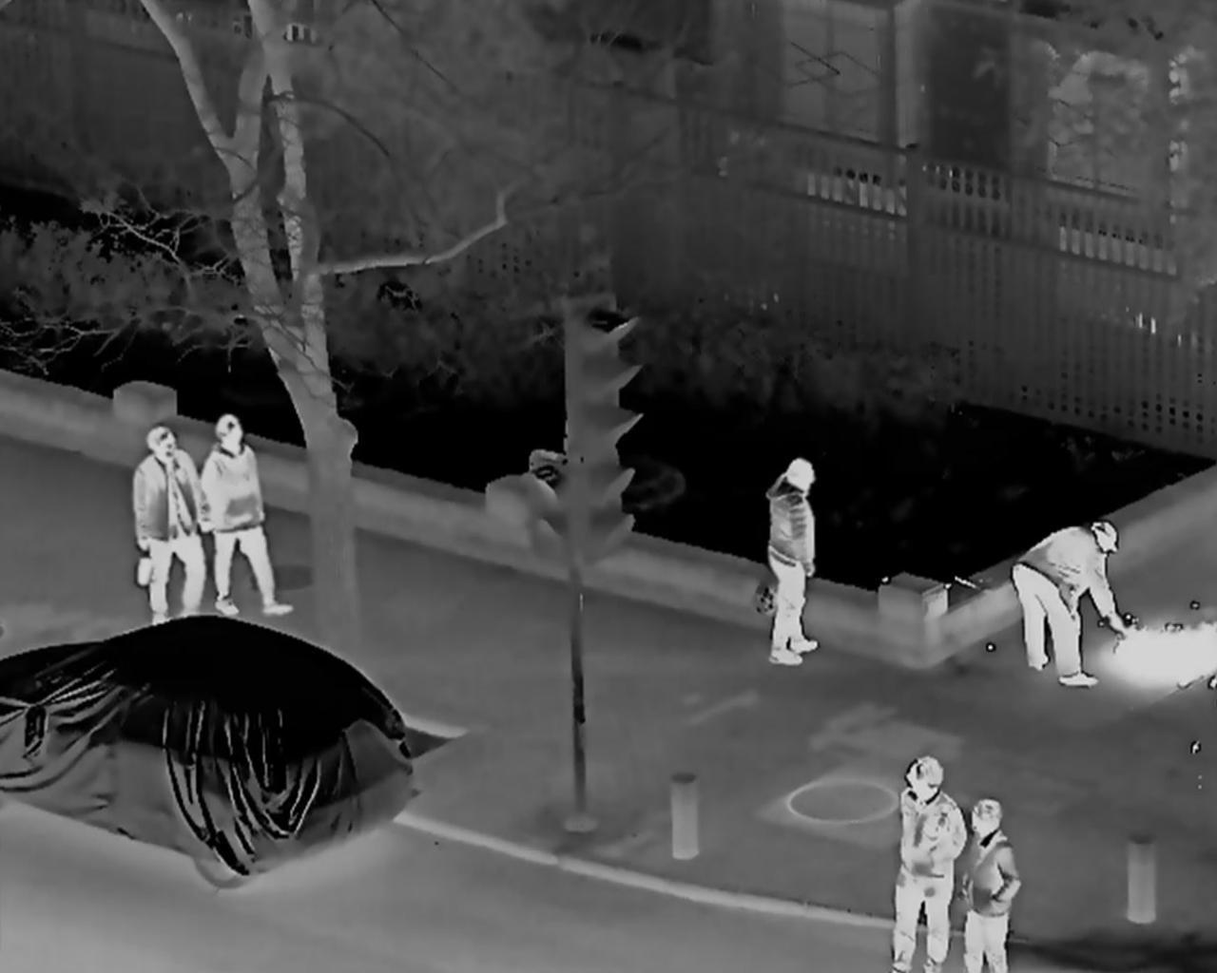person: (1007, 519, 1130, 687), (202, 417, 292, 616), (887, 757, 963, 973), (130, 427, 210, 628), (758, 455, 824, 671), (959, 797, 1015, 973)
